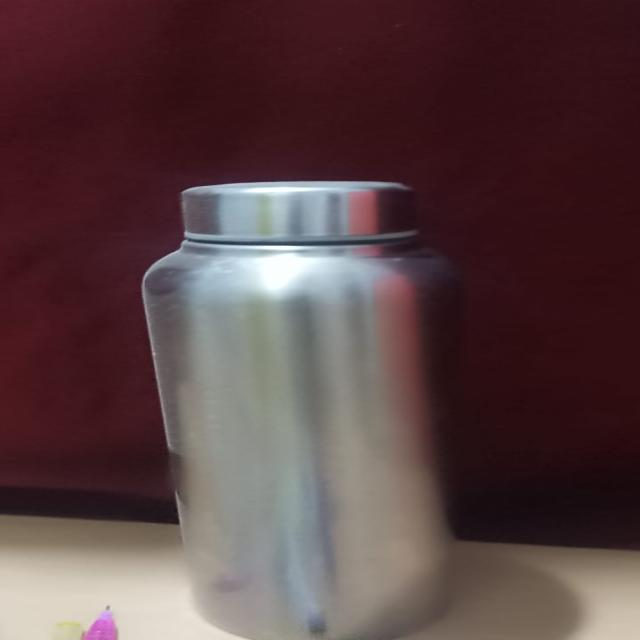bottle: (122, 175, 535, 640)
